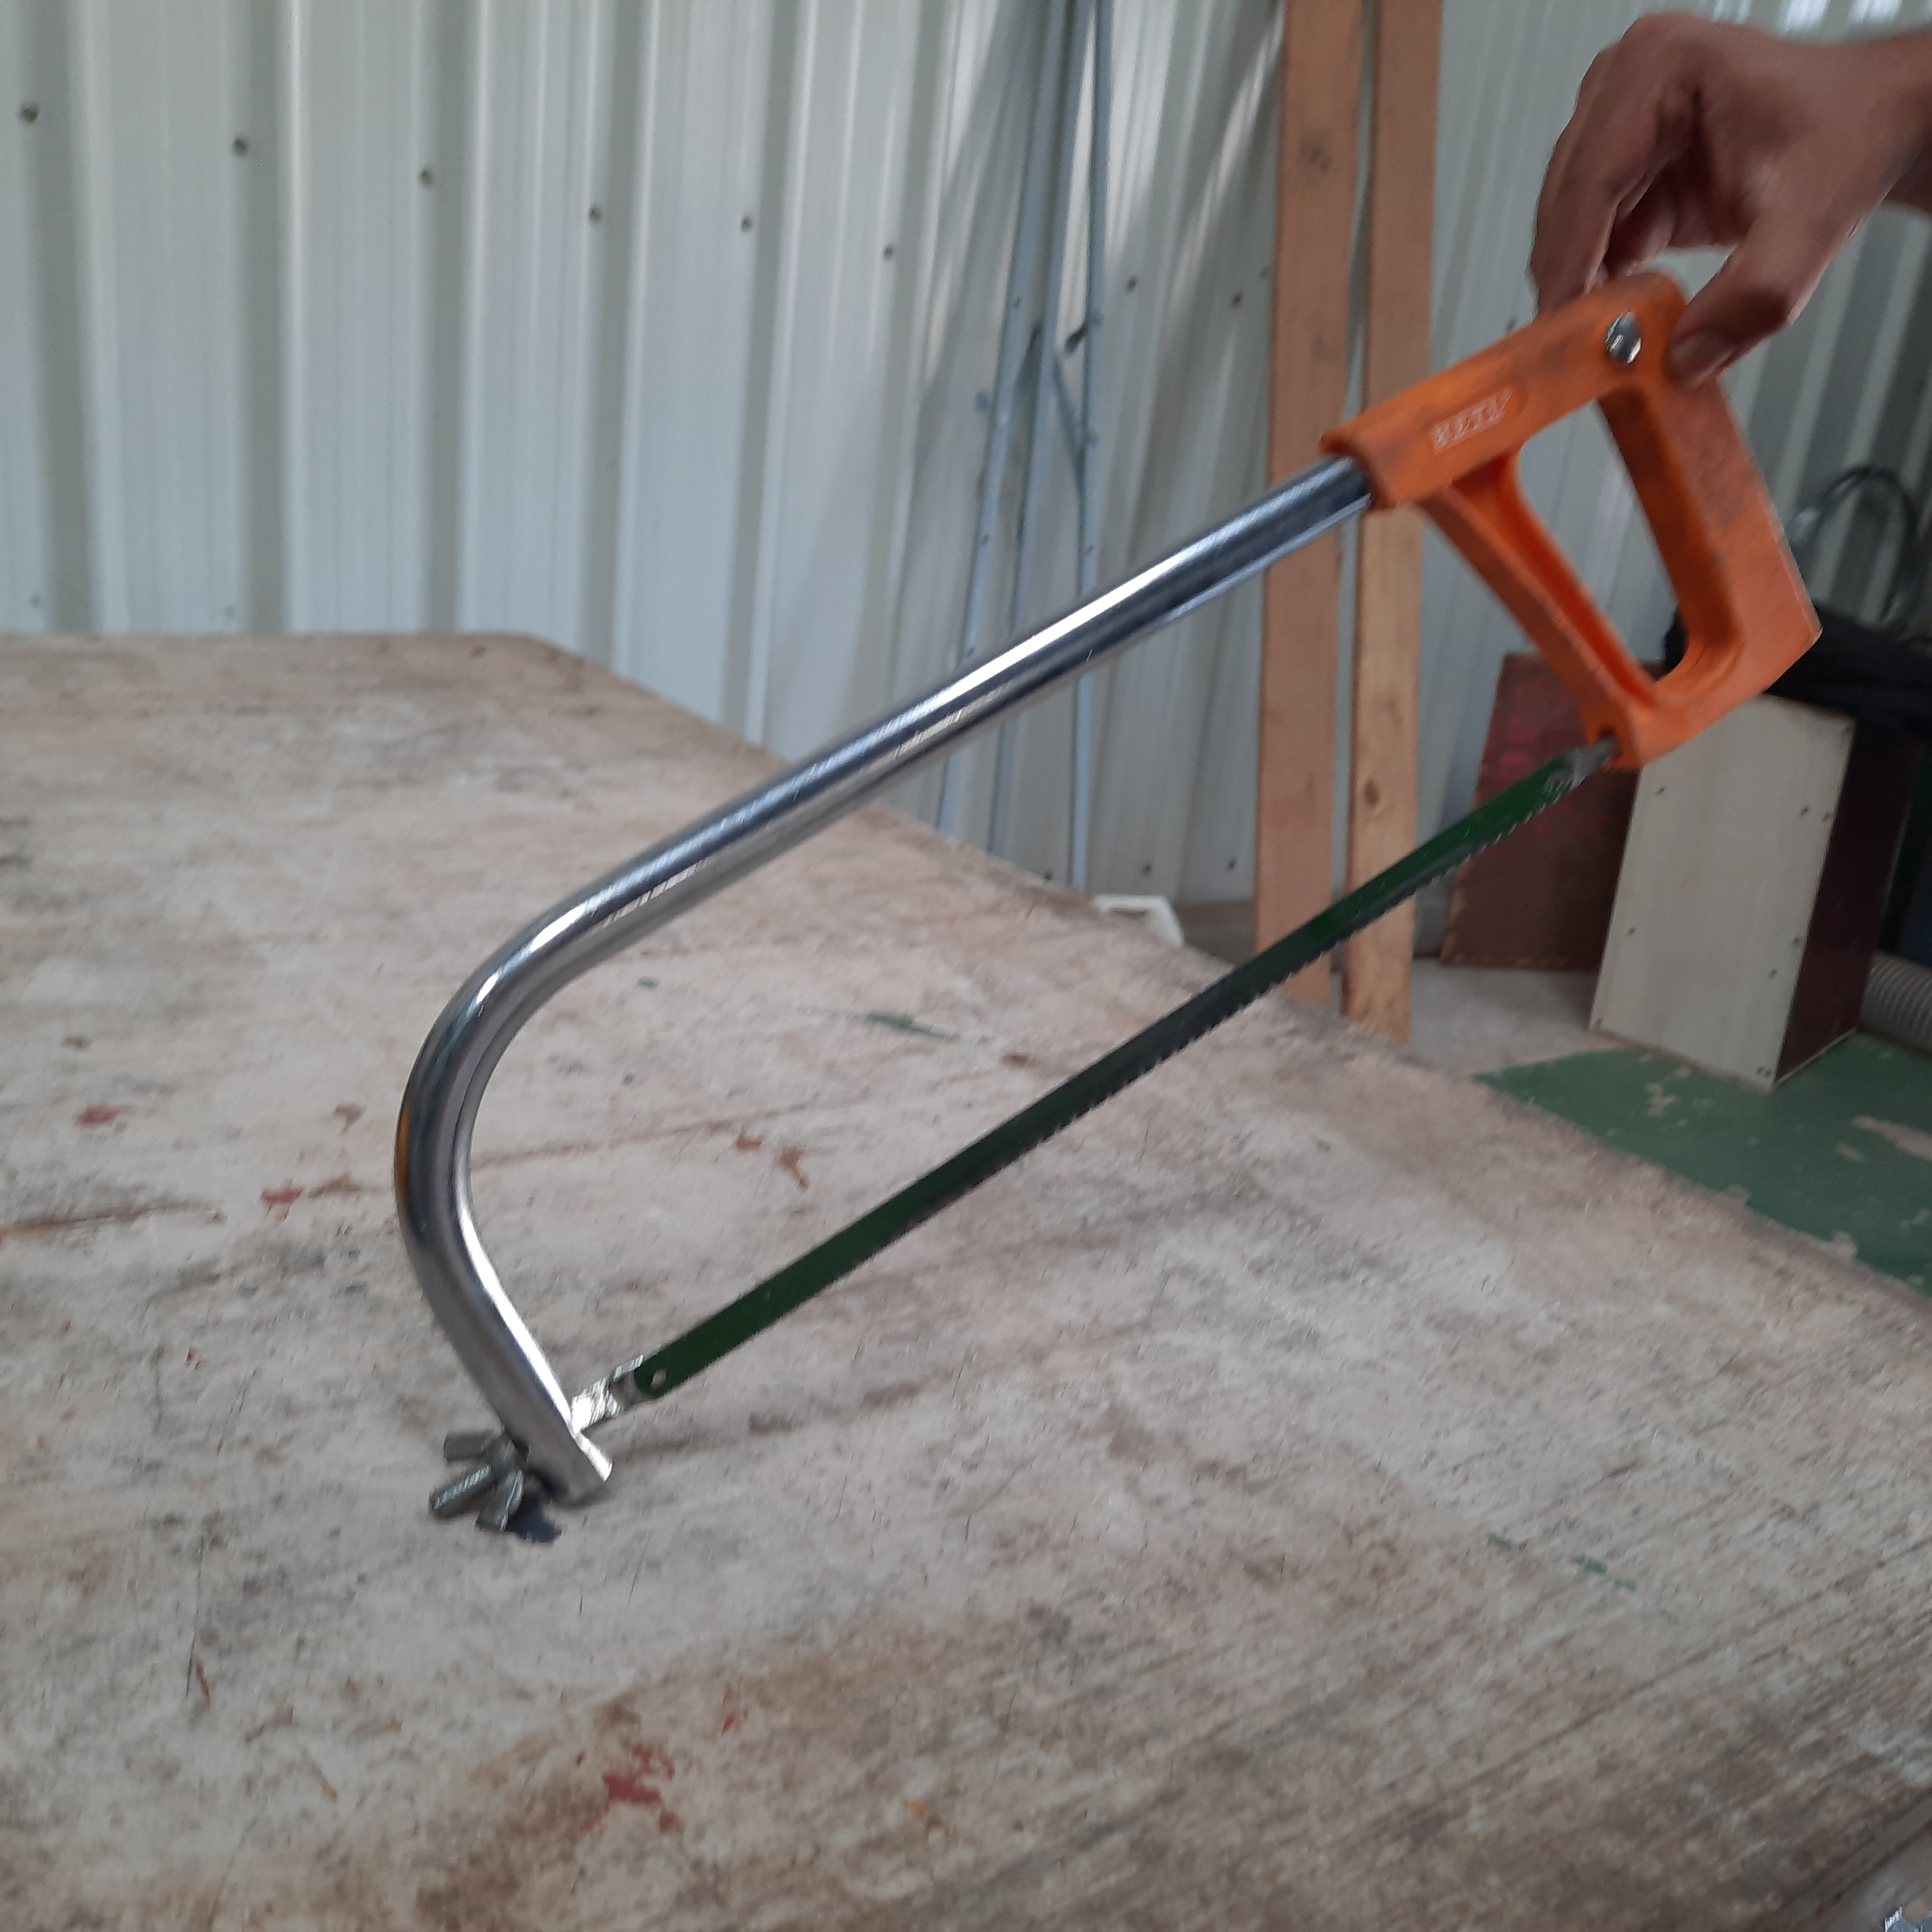Hexaframe: (364, 255, 1833, 1677)
